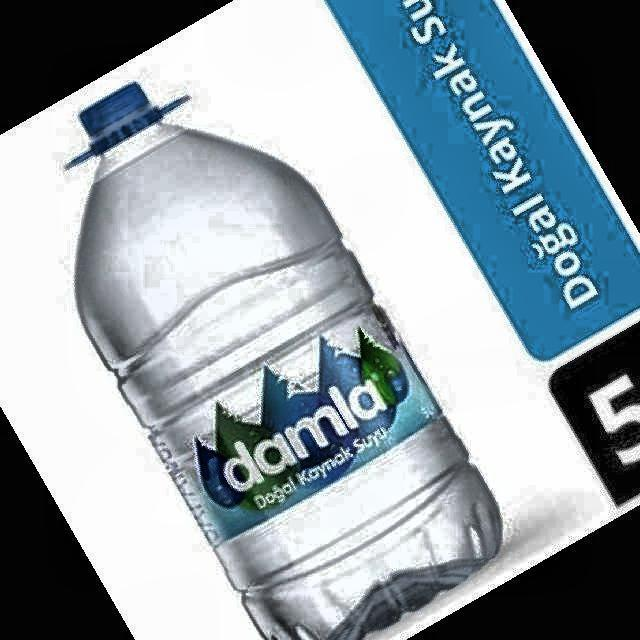plastic: (71, 84, 501, 640)
